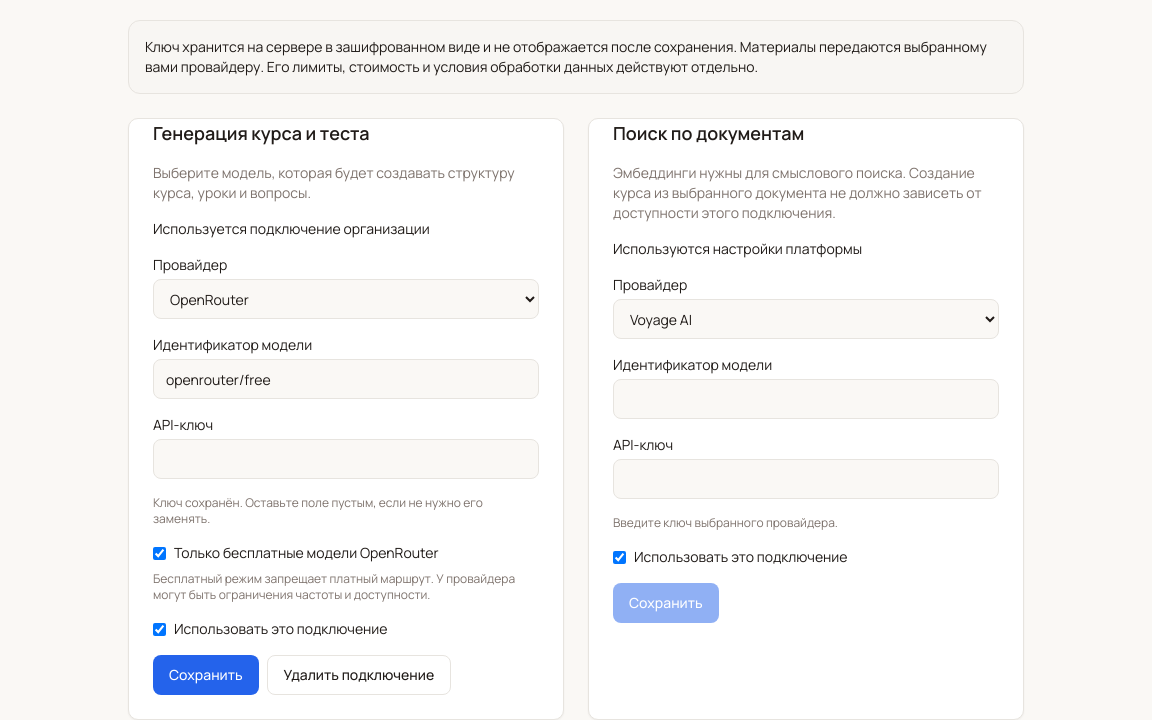
Test case: Tenant AI settings › reads saved settings without displaying or resubmitting the stored key
(page scrolled)
Expected: the password field labelled "API-ключ" below "Используется подключение организации" is empty, [153, 439, 539, 479]
Step 1. Click the button "Сохранить" below "Только бесплатные модели OpenRouter" → (206, 675), box [153, 655, 259, 695]
(page scrolled)
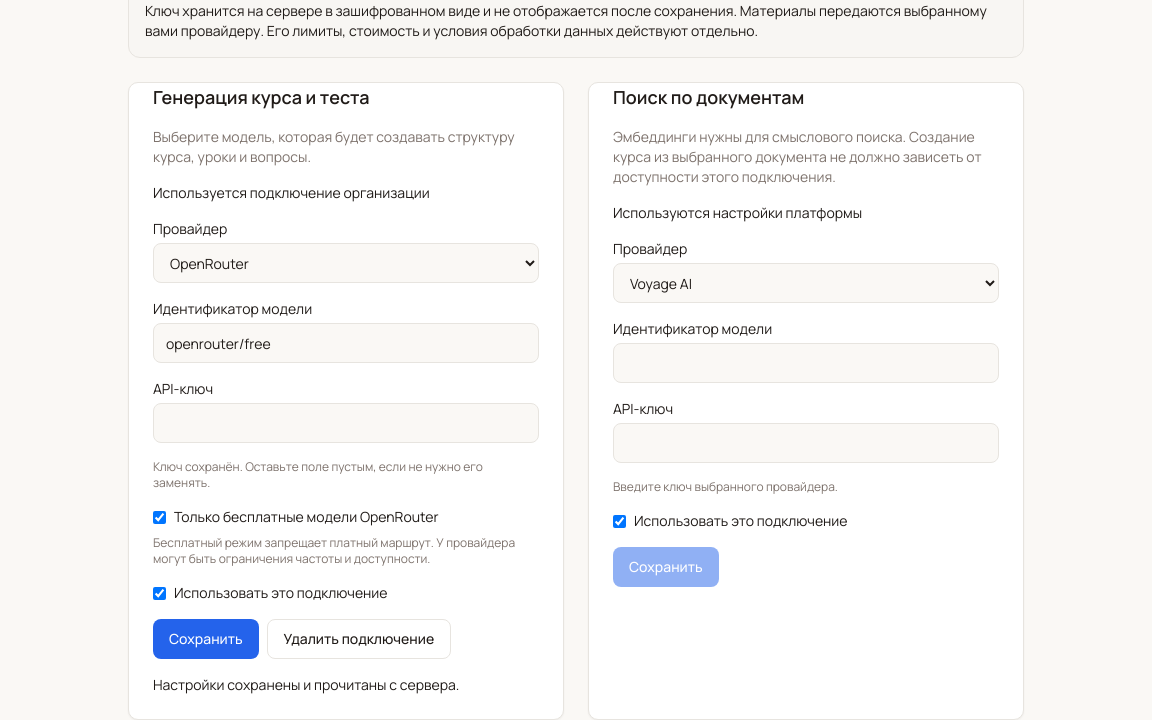
Expected: the message shows "прочитаны с сервера", [153, 675, 459, 694]
